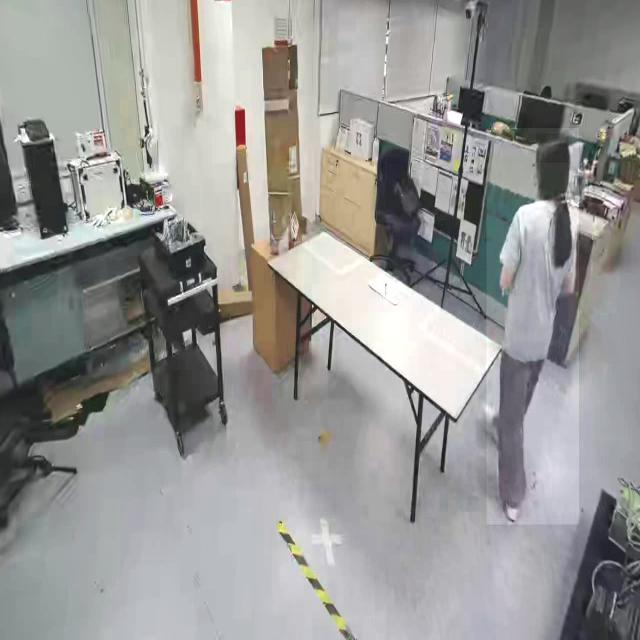head_nohelmet: (536, 134, 570, 164)
person: (486, 128, 580, 525)
shoes: (498, 473, 522, 526), (482, 400, 512, 439)
